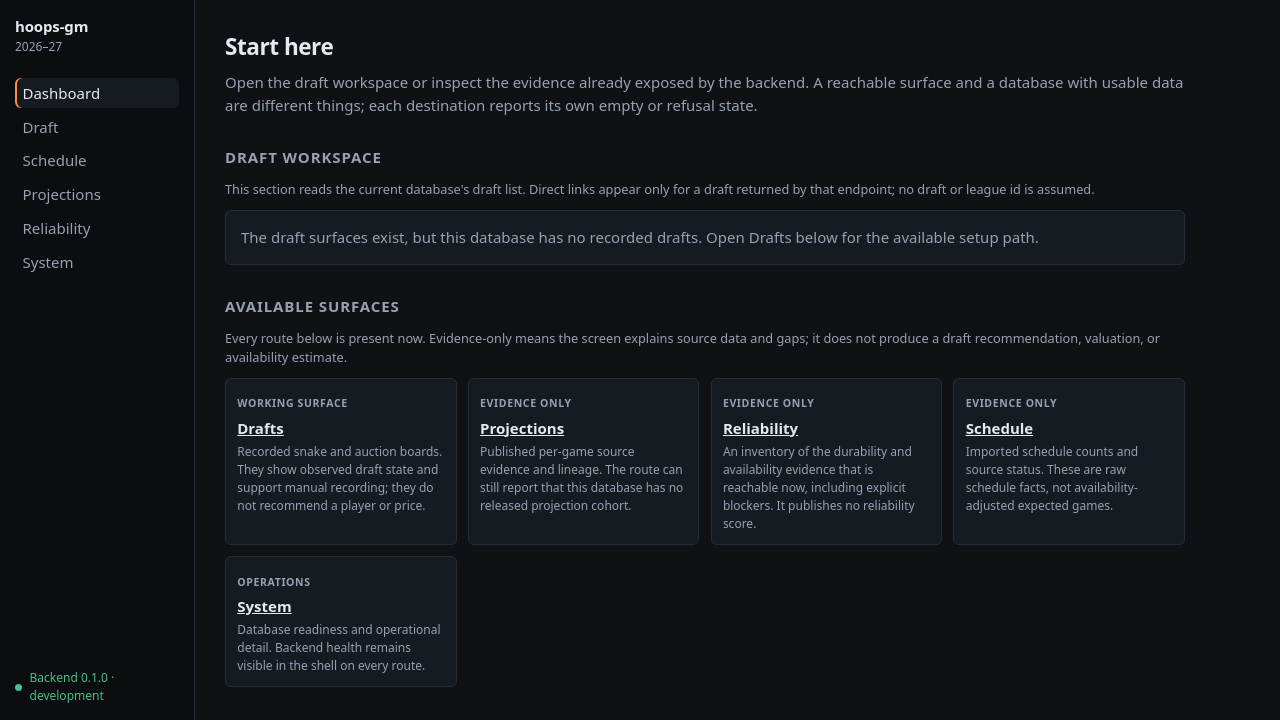
it: navigation › reaches the schedule from the sidebar
Click the link "Schedule" below "Dashboard" at (54, 160), box [22,150,86,170]
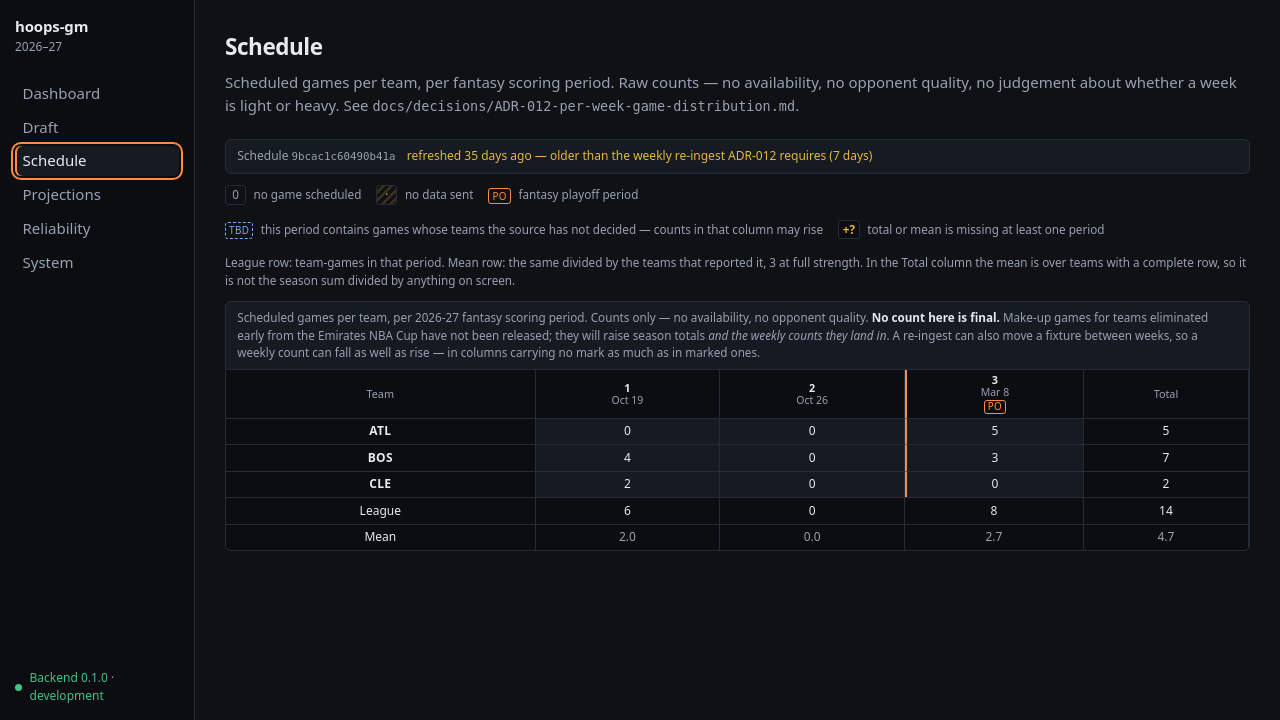
Expected: the heading "Schedule" is shown, [225,31,323,62]
Expected: the table with test id "schedule-grid" is shown, [226,302,1249,550]
